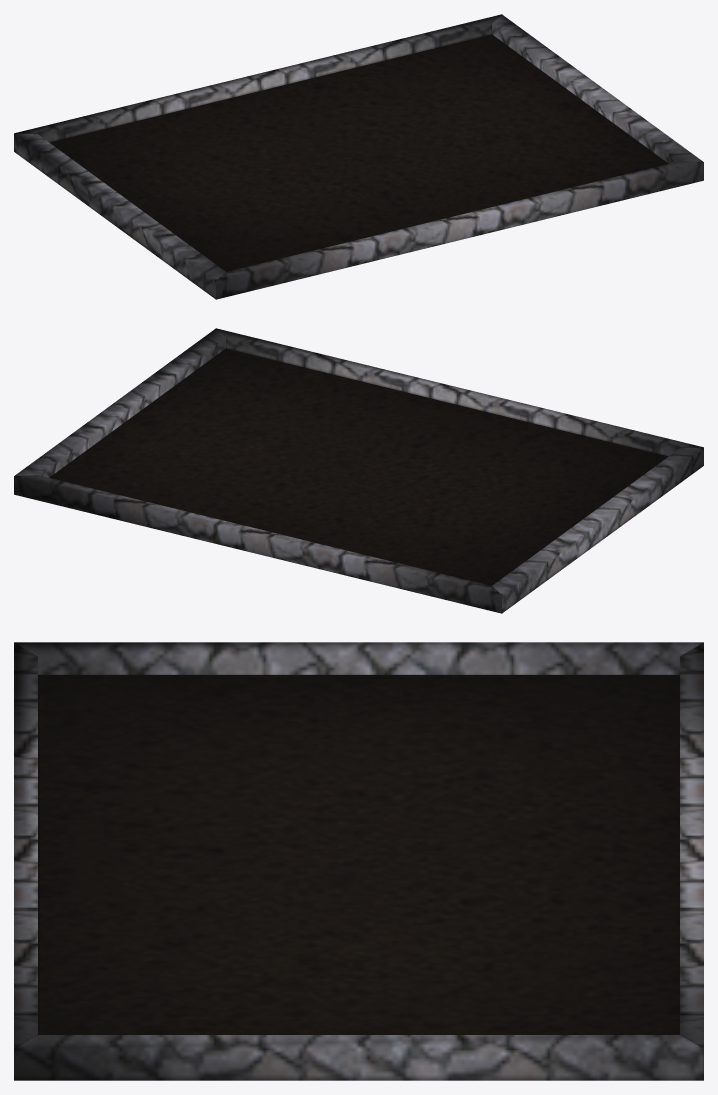
The model's file is Bushplatform_atlas.fbx.
3 renders of one model, top to bottom at view 1: azimuth 30°, elevation 25°; view 2: azimuth 150°, elevation 25°; view 3: azimuth 270°, elevation 25°, orthographic. The views are drawn at different scales.
Parts seen in each view (by area): view 1: pPlane1; view 2: pPlane1; view 3: pPlane1.
Part boxes in pixels (x1,y1,x2,y2): pPlane1: [14, 14, 703, 299]; pPlane1: [14, 328, 703, 613]; pPlane1: [14, 642, 703, 1080].
Bounding box in the file's own units: 3.54 × 0.1279 × 2.54.
